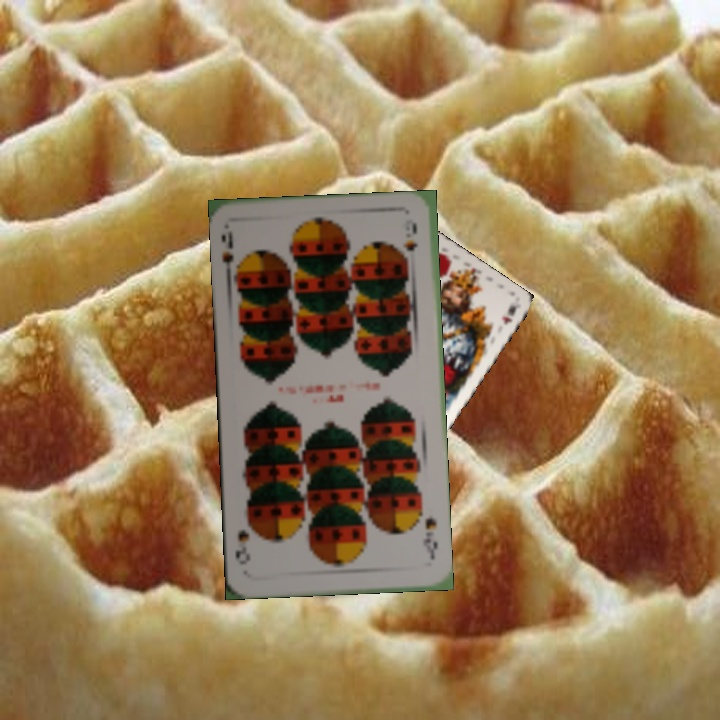S9: (217, 227, 245, 283), (419, 513, 440, 562)
